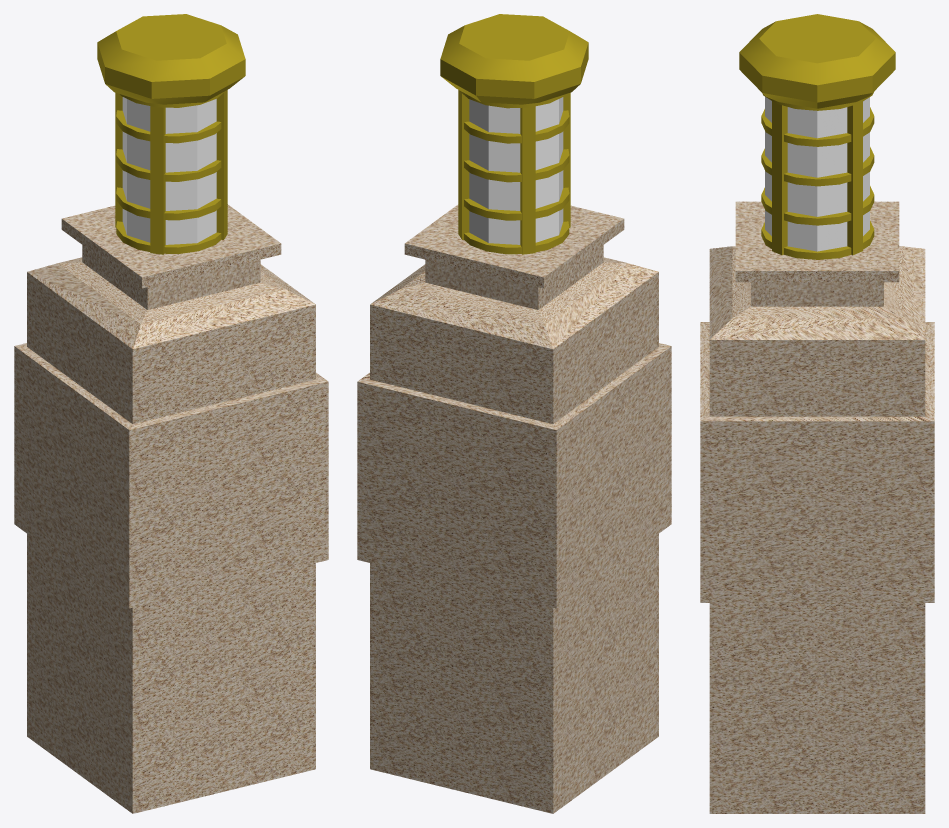
The model's file is colum_1.FBX.
3 renders of one model, left to right at view 1: azimuth 30°, elevation 25°; view 2: azimuth 150°, elevation 25°; view 3: azimuth 270°, elevation 25°, orthographic.
Visible parts, largest first — view 1: 6zhu_146; view 2: 6zhu_146; view 3: 6zhu_146.
Boxes of the visible parts, <box> form: 6zhu_146: <box>14,14,328,813</box>; 6zhu_146: <box>357,14,671,813</box>; 6zhu_146: <box>700,14,934,813</box>.
Size of the model in its own units: 913 by 3134 by 913.
